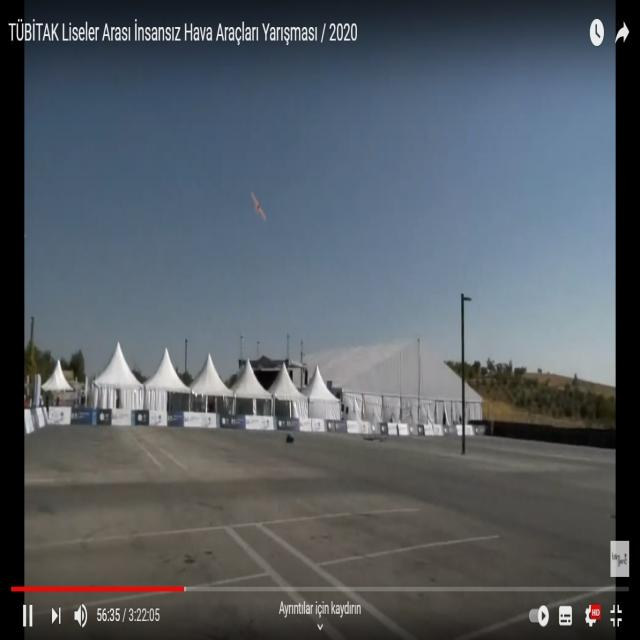iha: (249, 188, 266, 222)
